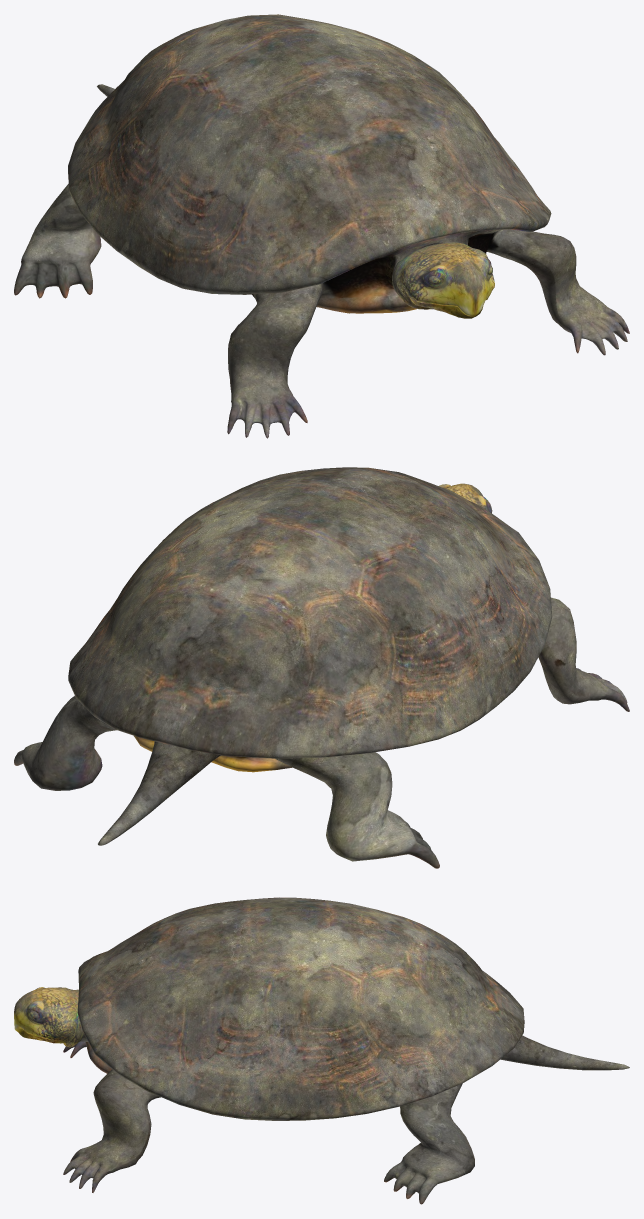
File: TortugaCandado.glb
3 renders of one model, top to bottom at view 1: azimuth 30°, elevation 25°; view 2: azimuth 150°, elevation 25°; view 3: azimuth 270°, elevation 25°, orthographic. The views are drawn at different scales.
Parts seen in each view (by area): view 1: TortugaCandado; view 2: TortugaCandado; view 3: TortugaCandado.
Part boxes in pixels (box(x1,y1,x2,y2)): TortugaCandado: box(14, 14, 629, 438); TortugaCandado: box(14, 467, 629, 868); TortugaCandado: box(14, 897, 629, 1204).
Size of the model in its own units: 1.79 by 1.03 by 2.76.
Materials: 1 (1 with a texture image).
